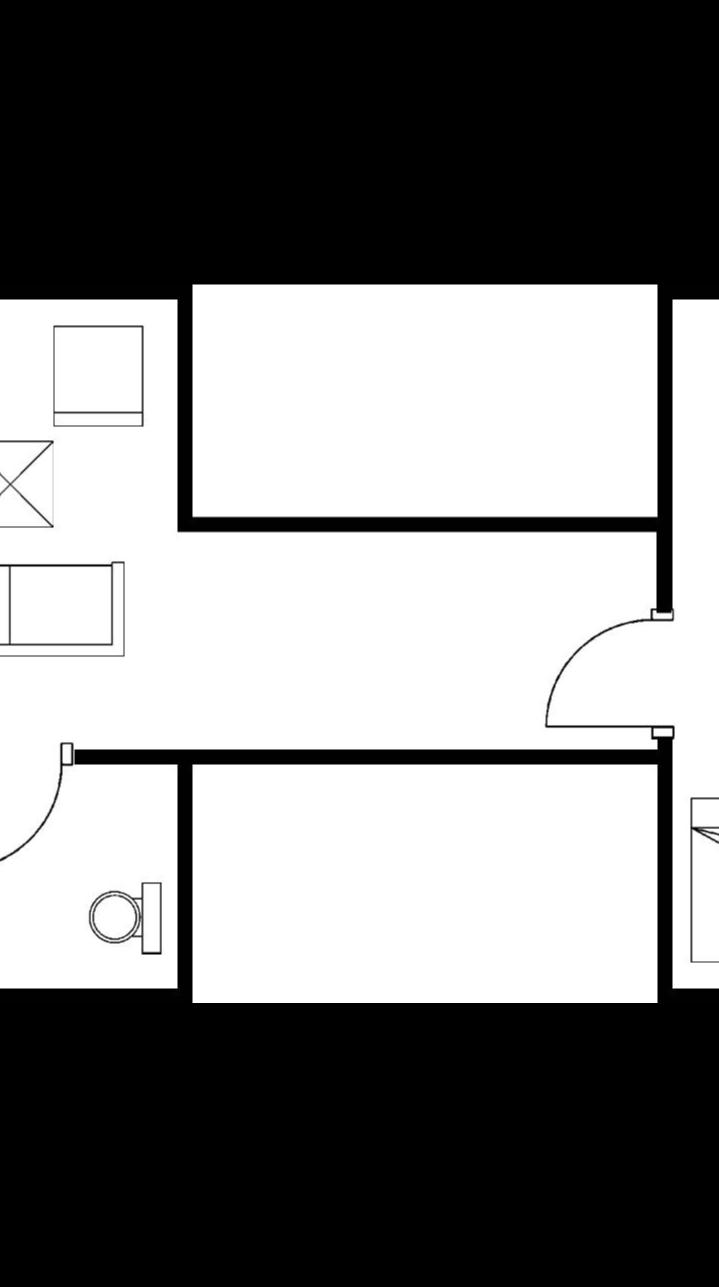bed: (681, 787, 719, 968)
sofa: (0, 555, 132, 668)
toilet: (81, 874, 166, 964)
